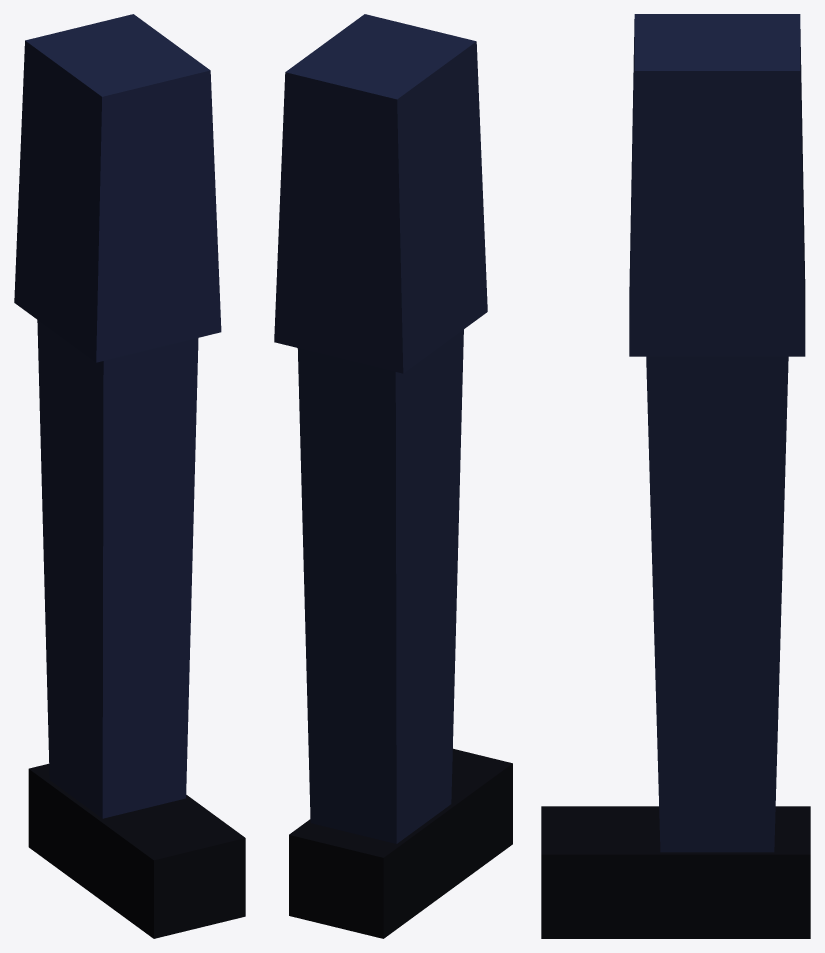
The model's file is leg_k25.glb.
3 renders of one model, left to right at view 1: azimuth 30°, elevation 25°; view 2: azimuth 150°, elevation 25°; view 3: azimuth 270°, elevation 25°, orthographic. The views are drawn at different scales.
Parts seen in each view (by area): view 1: leg_kit; view 2: leg_kit; view 3: leg_kit.
Part boxes in pixels (x1=…): leg_kit: x1=14, y1=14, x2=245, y2=938; leg_kit: x1=274, y1=14, x2=512, y2=938; leg_kit: x1=541, y1=14, x2=810, y2=938.
Size of the model in its own units: 0.15 by 0.93 by 0.26.
